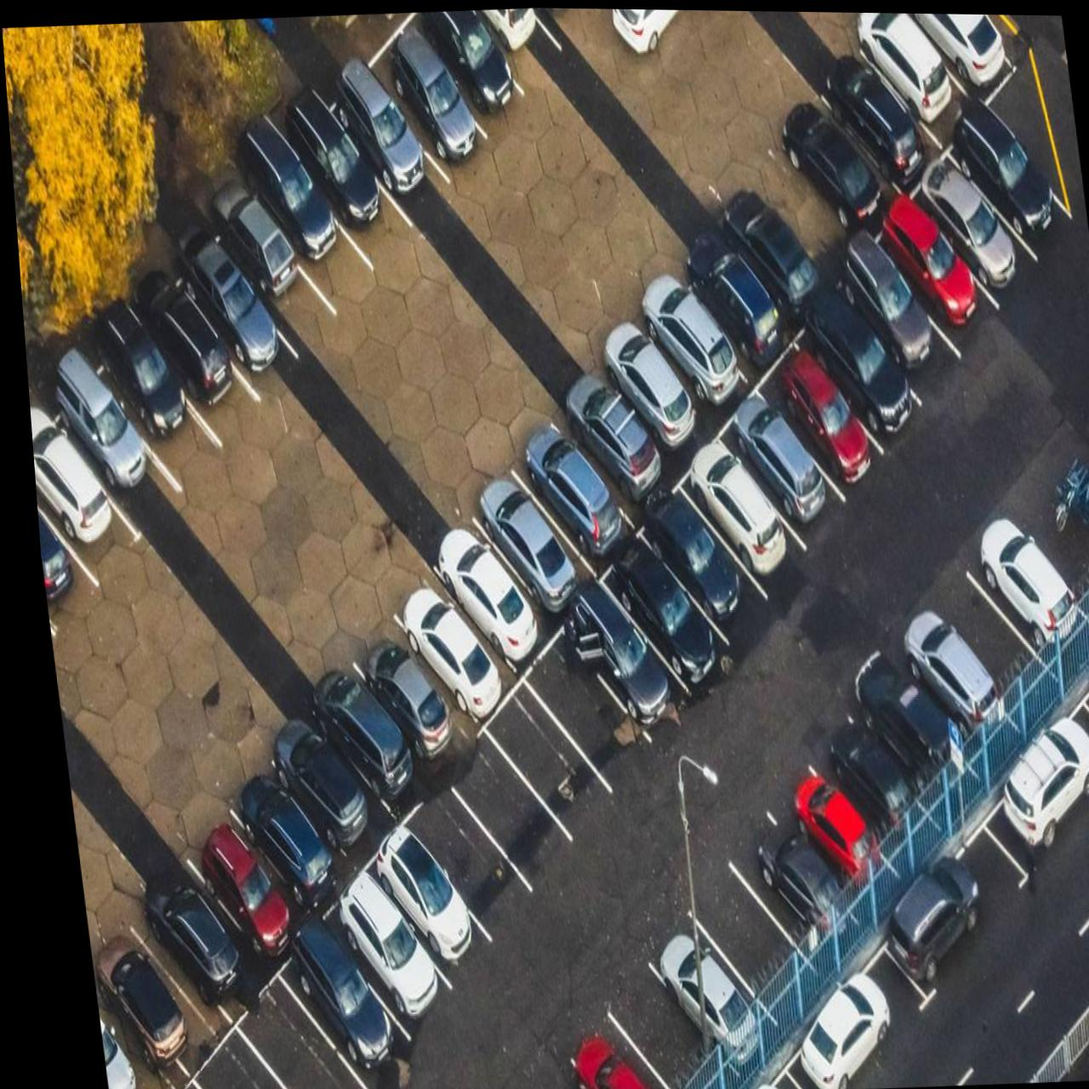cars: (242, 698, 386, 870), (887, 829, 1031, 1000), (322, 601, 456, 780), (174, 797, 304, 975), (373, 562, 509, 729), (414, 529, 548, 693), (139, 864, 261, 1038), (293, 654, 422, 815), (781, 948, 926, 1089), (606, 505, 728, 671), (720, 807, 861, 949), (804, 277, 927, 438), (95, 915, 210, 1087), (211, 760, 337, 916), (850, 222, 956, 404), (763, 324, 884, 480), (457, 479, 589, 620), (806, 39, 930, 188), (62, 362, 175, 525), (559, 562, 678, 716), (617, 272, 749, 410), (885, 180, 987, 356), (583, 308, 703, 457), (770, 86, 883, 244), (684, 419, 799, 574), (922, 144, 1032, 306), (889, 581, 997, 746), (955, 100, 1060, 268), (30, 410, 133, 576), (645, 911, 759, 1060), (984, 695, 1089, 856), (98, 315, 211, 464), (966, 511, 1080, 658), (661, 224, 786, 357), (775, 749, 885, 900), (807, 691, 914, 838), (509, 431, 630, 560), (139, 283, 250, 423), (549, 372, 665, 505), (336, 883, 445, 1023), (726, 383, 839, 518), (381, 21, 492, 158), (841, 643, 953, 778), (294, 933, 399, 1076), (379, 827, 484, 969), (841, 12, 951, 147), (283, 97, 384, 244), (707, 183, 824, 309), (186, 219, 284, 369), (658, 478, 764, 614), (214, 191, 319, 320), (249, 116, 346, 252), (338, 57, 434, 191), (909, 13, 1016, 104), (423, 8, 519, 108)
empty: (683, 855, 801, 1006), (934, 551, 1041, 717), (455, 721, 575, 869), (732, 142, 848, 289), (536, 611, 639, 773), (416, 782, 534, 919), (496, 676, 603, 827), (228, 973, 366, 1089), (596, 970, 722, 1089), (1006, 464, 1089, 622)
